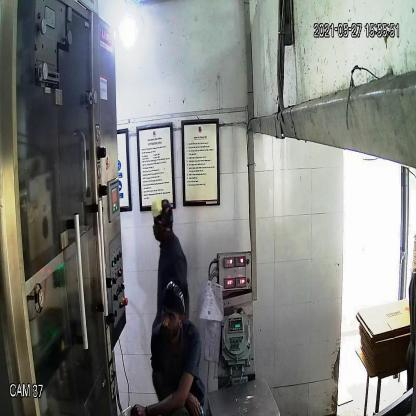no_goggles: (160, 306, 184, 326)
